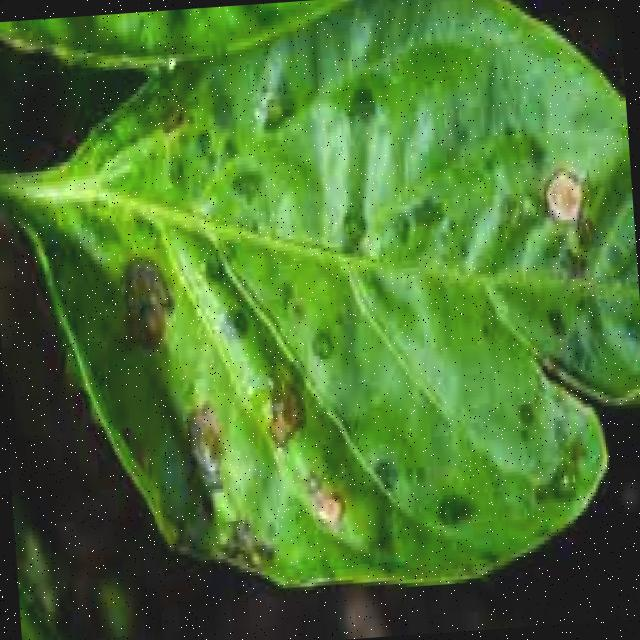leaf spot: (28, 0, 640, 606)
